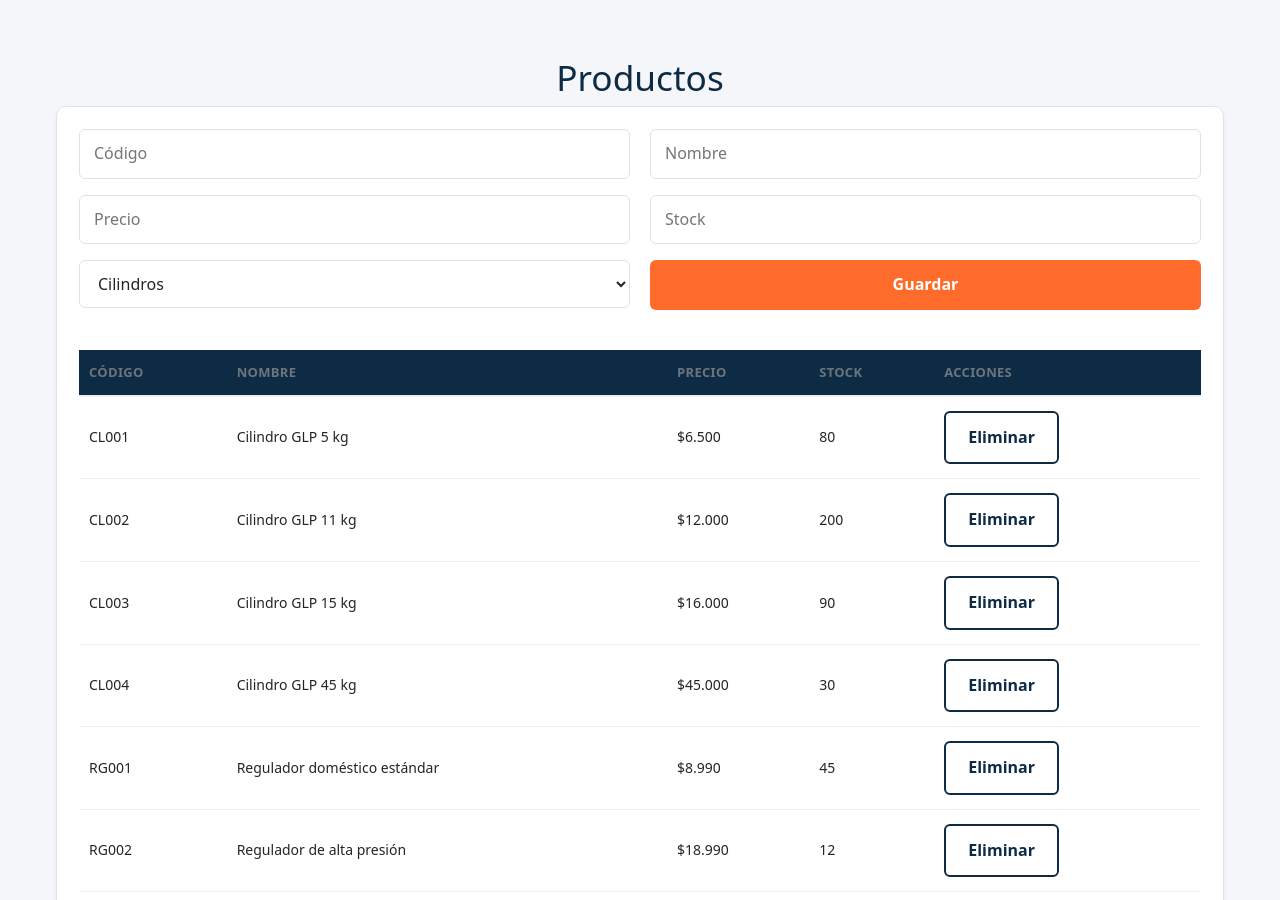
Test: CRUD de productos del administrador › deberia crear un producto nuevo y mostrarlo en la tabla
Type "XX001" into the field with placeholder "Código" at {"x": 354, "y": 154}, box [79, 129, 630, 179]
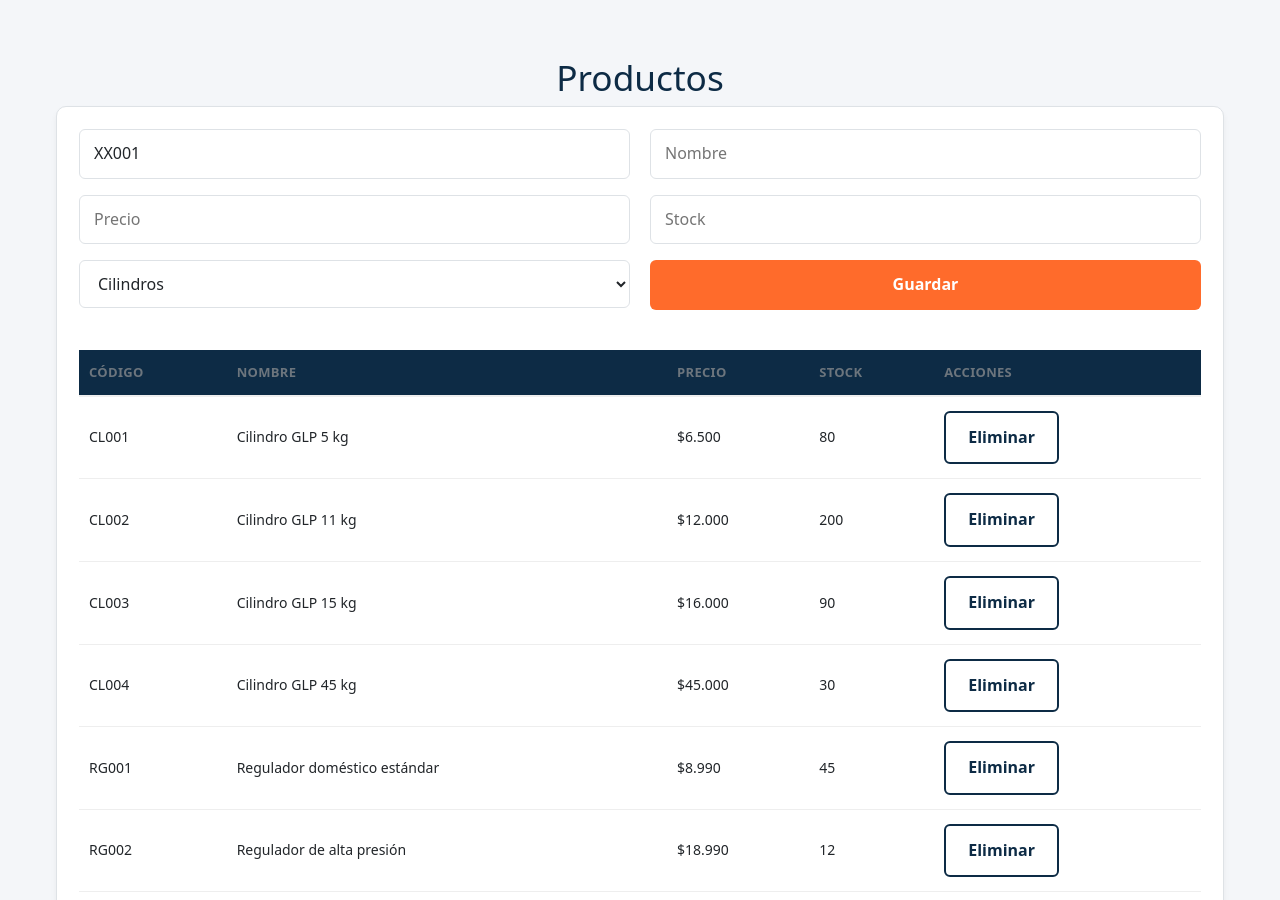
Type "Cilindro de prueba" into the field with placeholder "Nombre" at {"x": 926, "y": 154}, box [650, 129, 1201, 179]
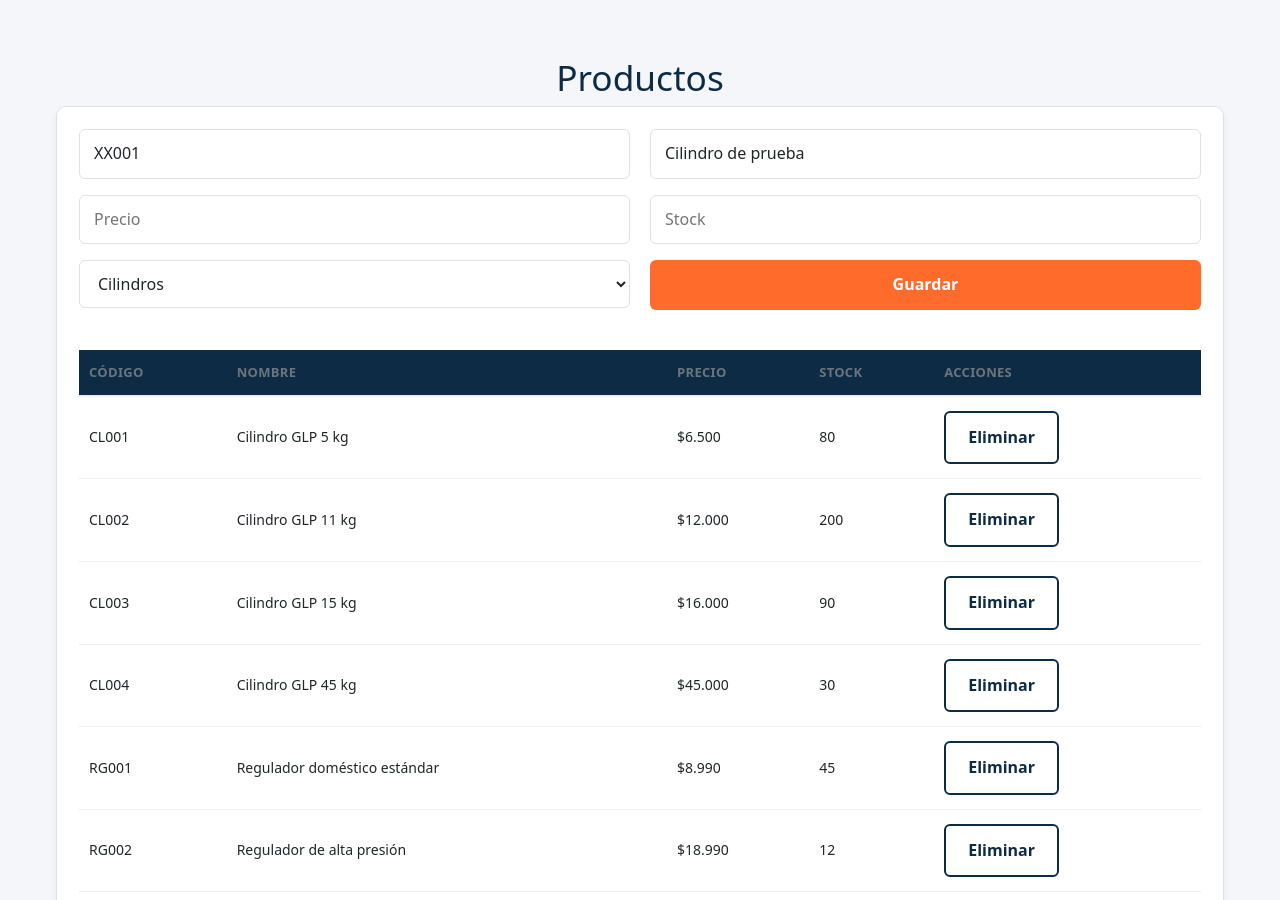
Type "5000" into the number field with placeholder "Precio" at {"x": 354, "y": 220}, box [79, 195, 630, 244]
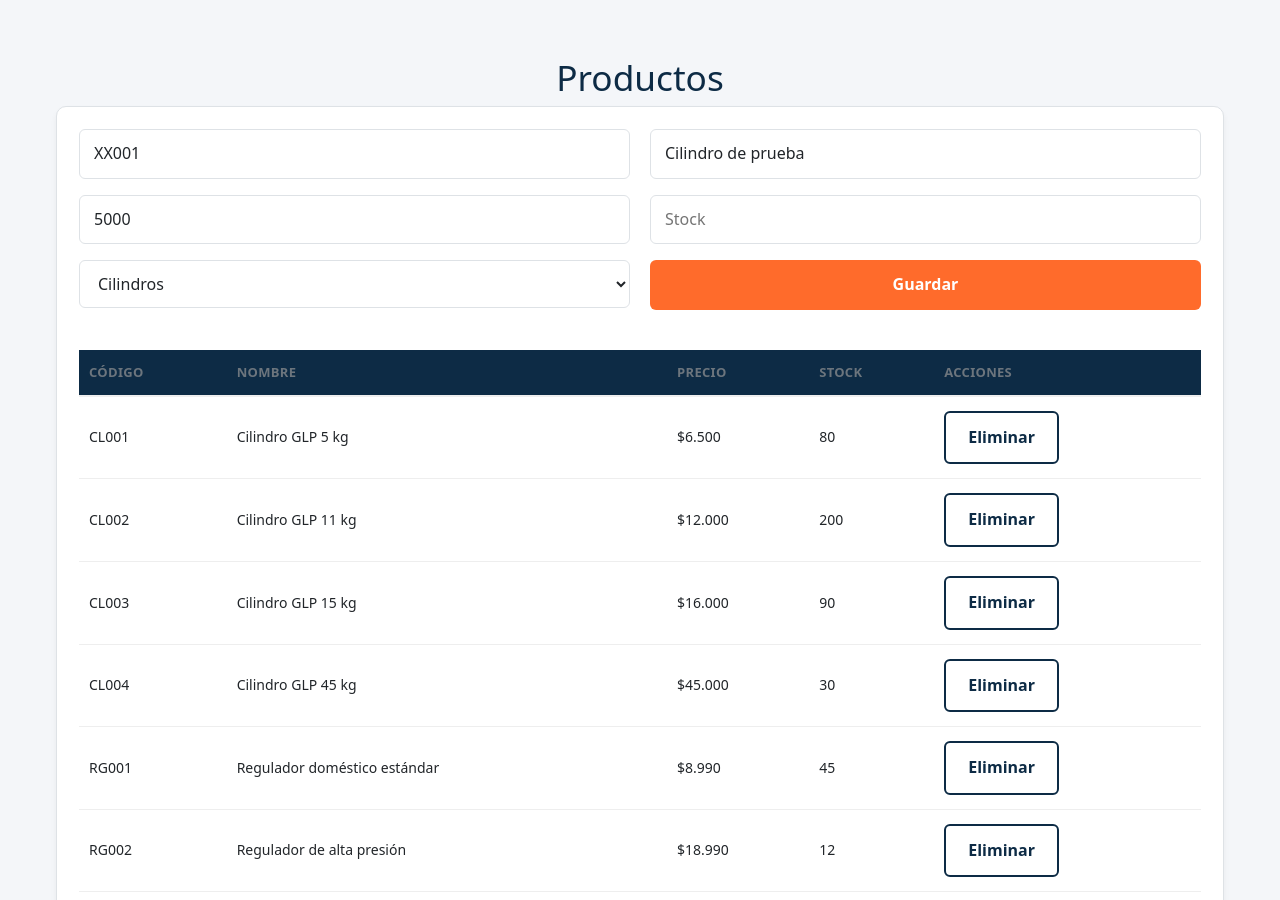
Type "15" into the number field with placeholder "Stock" at {"x": 926, "y": 220}, box [650, 195, 1201, 244]
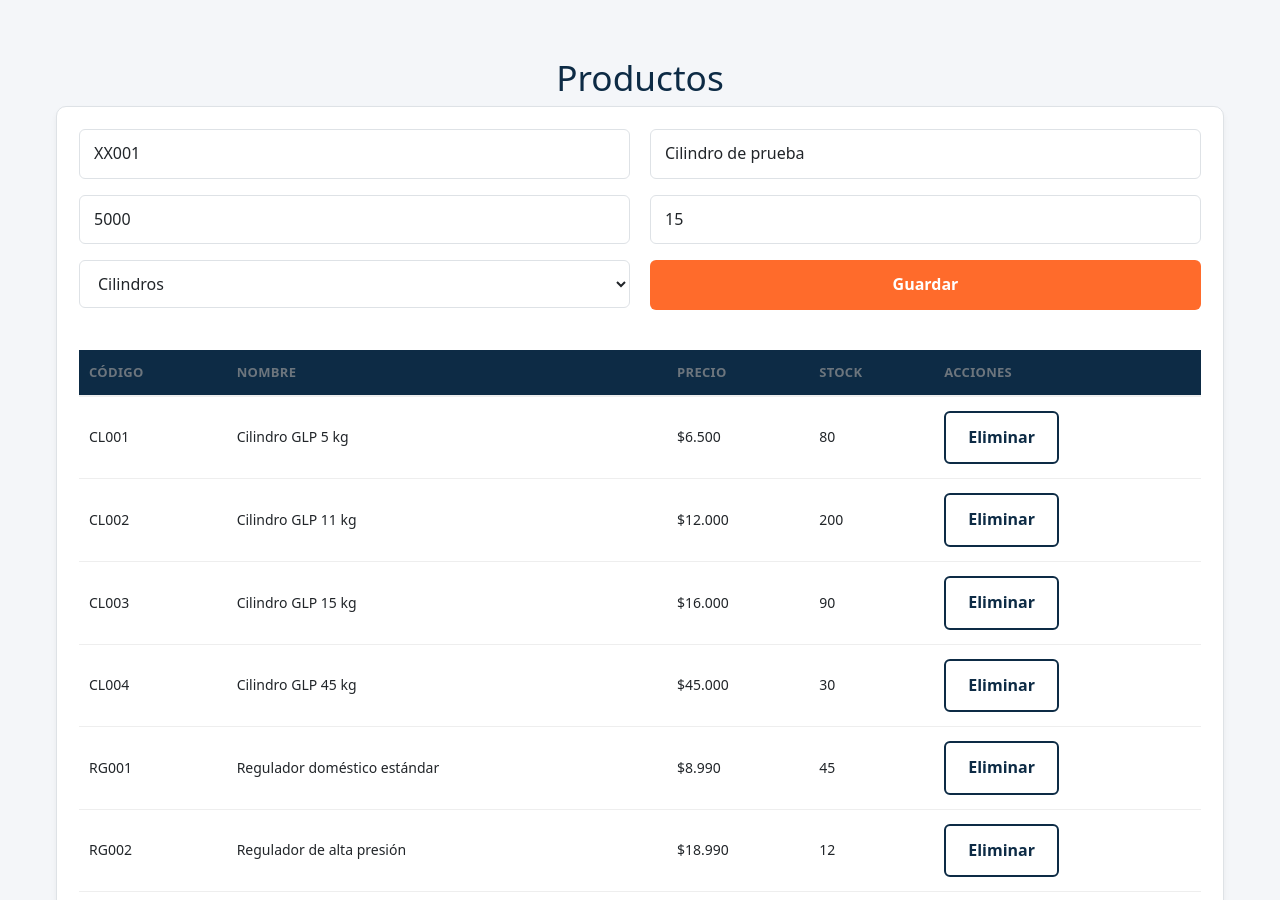
Click the button "Guardar" at {"x": 926, "y": 285}, box [650, 260, 1201, 310]
(page scrolled)
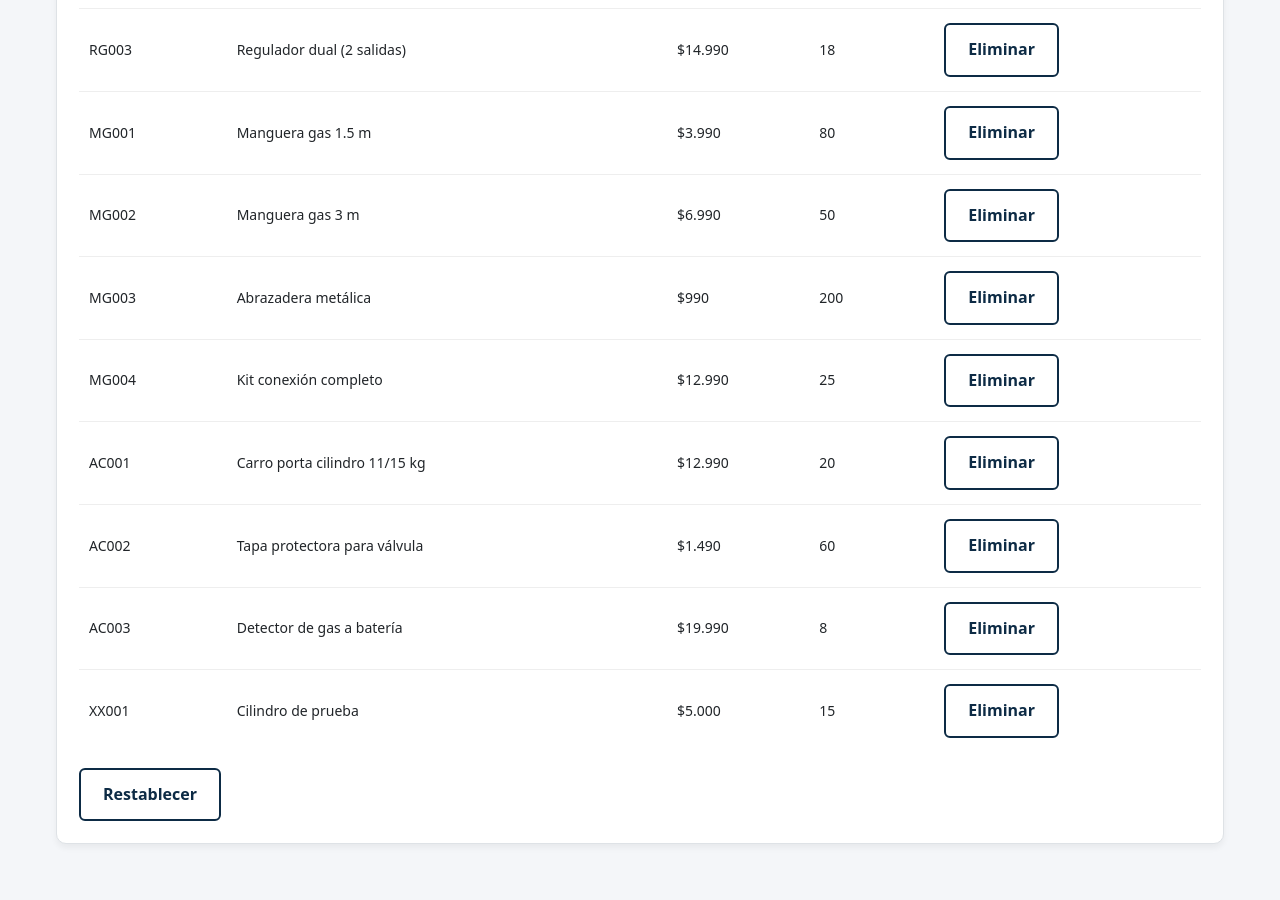
Expected: the text "Cilindro de prueba" is shown, [227, 670, 667, 752]
Expected: the text "$5.000" is shown, [667, 670, 809, 752]
